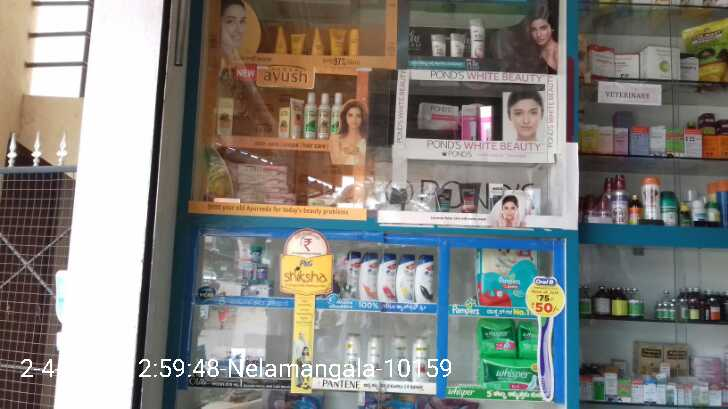vicks: (229, 243, 276, 298)
